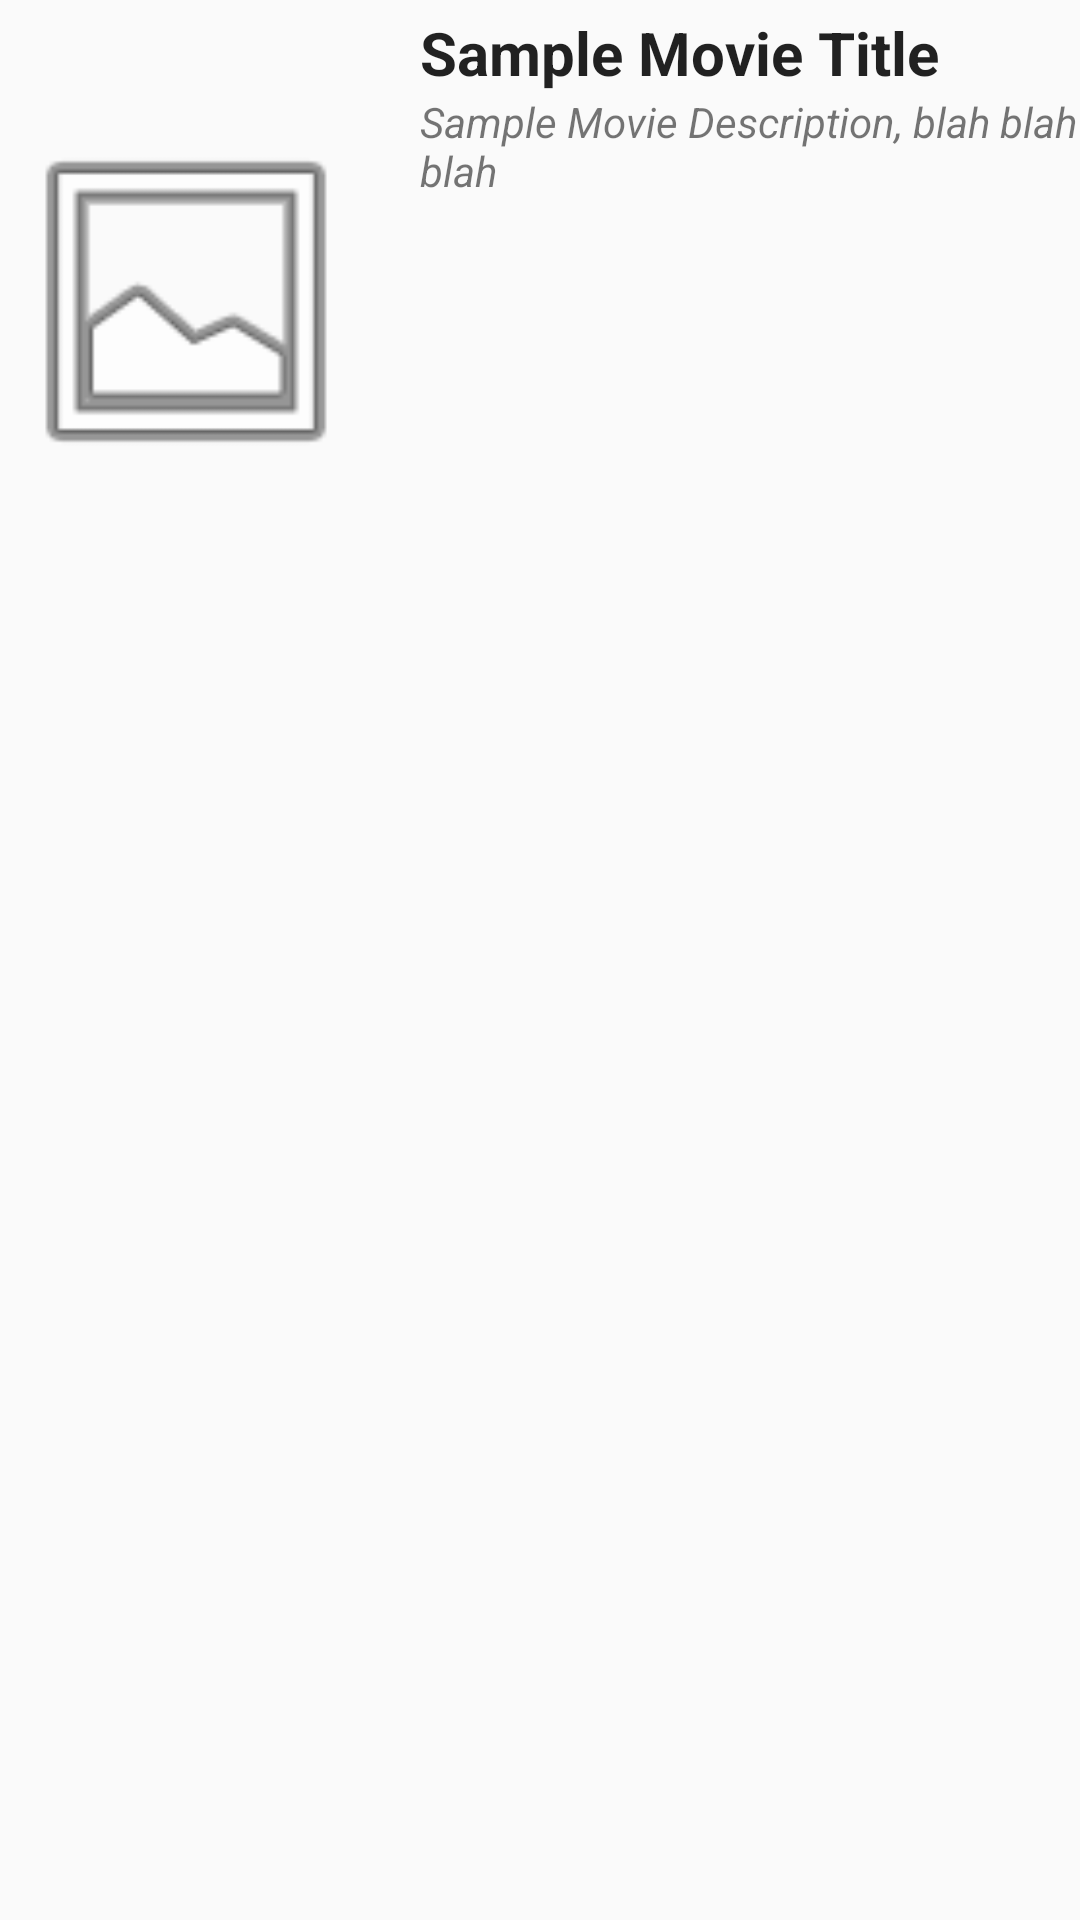

Point at icon controls on the screen. Image size 1080px×1920px, points as (x=x, y=y).
gallery: (x=186, y=301)
